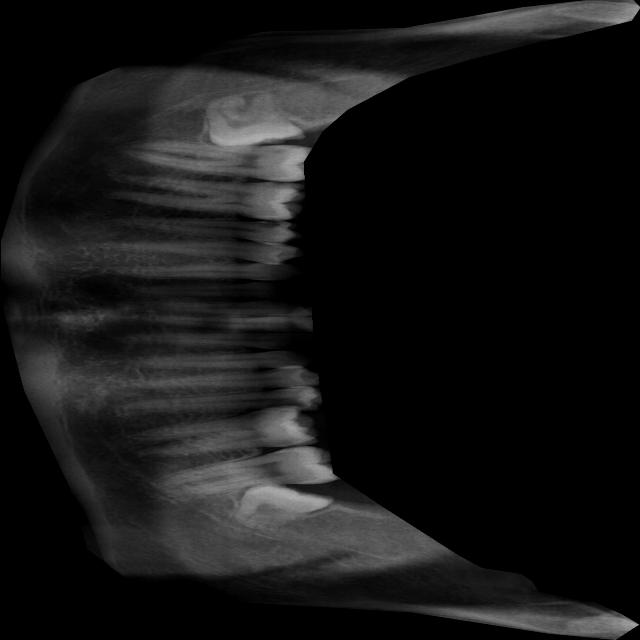mandibula: (0, 0, 640, 640)
